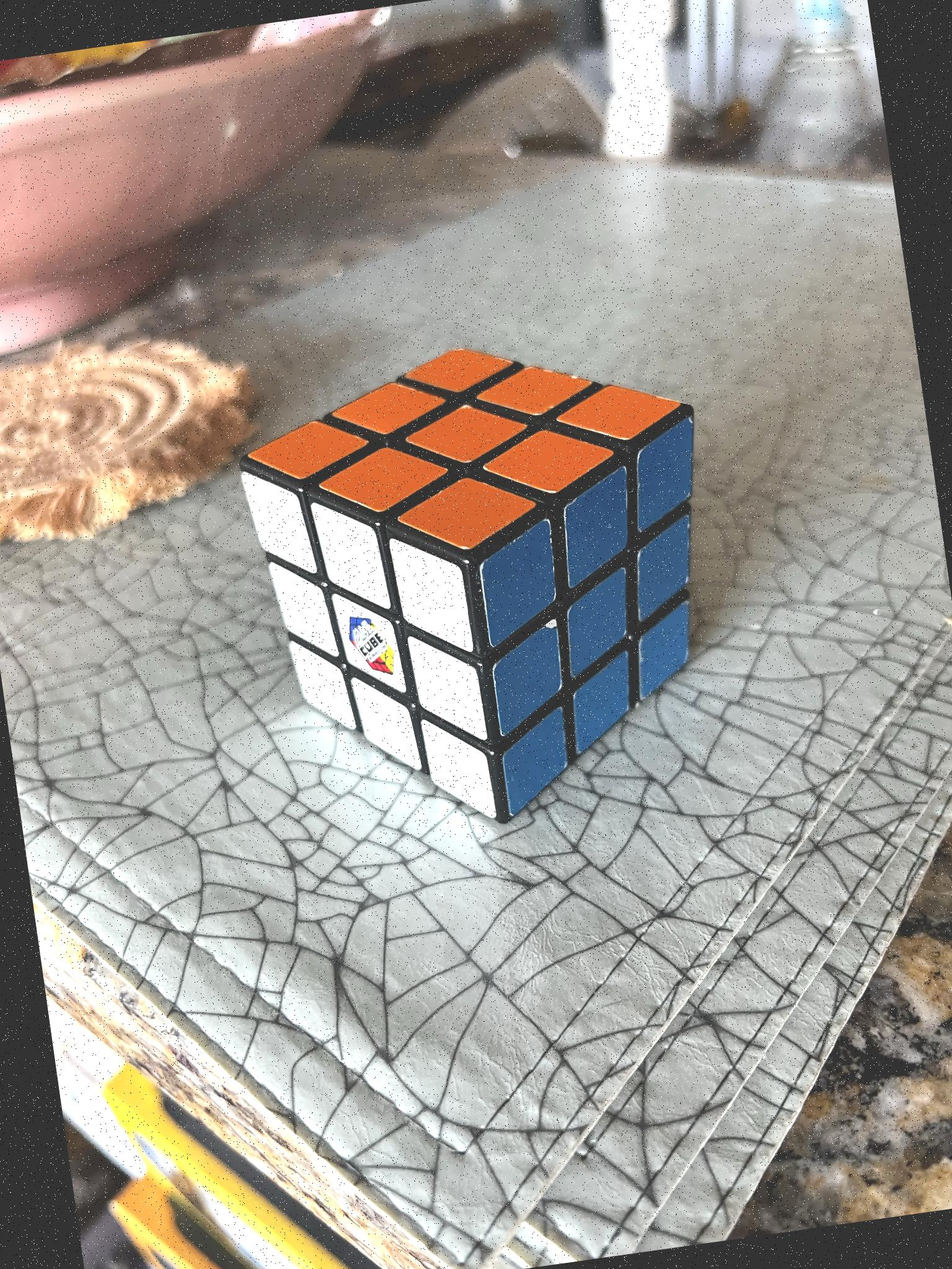rubiks_cube: (243, 348, 694, 817)
